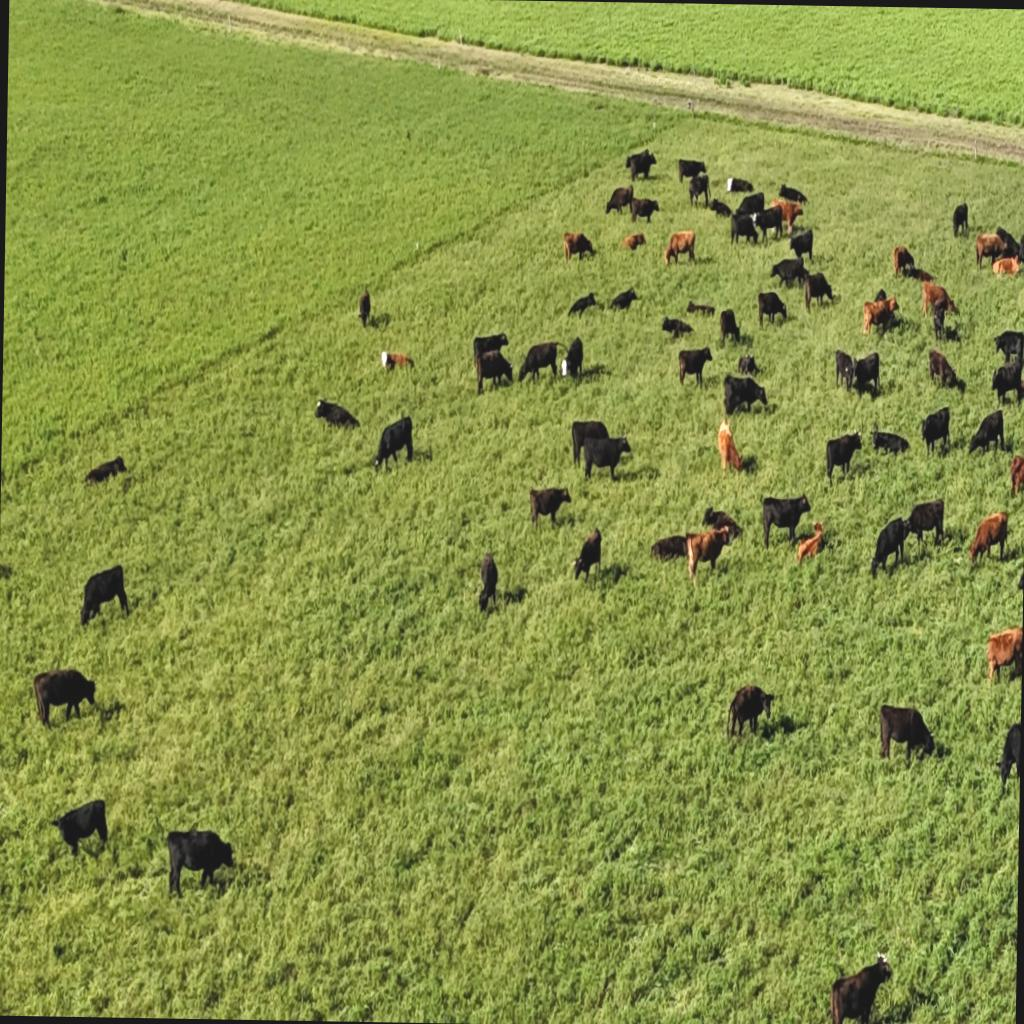cow: (166, 827, 236, 899), (829, 950, 892, 1024), (32, 666, 96, 728), (50, 798, 108, 858), (878, 704, 936, 763), (80, 562, 129, 626), (684, 524, 732, 586), (762, 492, 812, 548), (728, 684, 774, 740), (579, 434, 631, 482), (374, 414, 416, 472), (969, 510, 1009, 570), (870, 515, 908, 578), (984, 626, 1022, 688), (468, 321, 514, 367), (905, 498, 945, 550), (824, 431, 862, 483), (570, 418, 609, 468), (528, 485, 571, 530), (474, 352, 514, 400), (966, 408, 1006, 456), (723, 374, 768, 416), (519, 340, 559, 386), (572, 526, 602, 586), (862, 292, 899, 338), (996, 720, 1020, 790), (920, 280, 958, 323), (716, 416, 744, 474), (918, 406, 950, 456), (676, 345, 712, 388), (990, 361, 1024, 406), (928, 350, 964, 392), (314, 398, 360, 430), (851, 351, 880, 401), (768, 199, 804, 238), (702, 508, 742, 543), (796, 520, 826, 566), (83, 456, 128, 486), (478, 551, 499, 613), (752, 205, 784, 245), (974, 232, 1006, 272), (664, 228, 696, 268), (771, 257, 807, 292), (803, 272, 834, 312), (992, 328, 1024, 366), (757, 292, 788, 330), (729, 210, 759, 248), (870, 430, 910, 458), (650, 534, 689, 562), (560, 336, 584, 381), (562, 230, 594, 262), (626, 148, 656, 182), (994, 227, 1022, 261), (605, 184, 634, 216), (718, 308, 742, 346), (787, 228, 813, 262), (677, 157, 707, 185), (834, 350, 855, 390), (687, 172, 710, 208), (629, 197, 659, 224), (566, 292, 598, 316), (608, 286, 640, 310), (892, 245, 916, 277), (380, 348, 412, 372), (736, 192, 765, 218), (662, 316, 694, 339), (1008, 454, 1024, 498), (931, 300, 947, 342), (779, 184, 808, 206), (992, 254, 1020, 276), (952, 202, 968, 238), (358, 287, 371, 328), (726, 176, 753, 194), (702, 505, 724, 527), (737, 353, 758, 376), (709, 198, 733, 218), (686, 300, 716, 316), (622, 232, 646, 251), (738, 452, 758, 474), (907, 267, 934, 283), (1011, 379, 1024, 407), (950, 374, 967, 395), (883, 294, 899, 314), (788, 201, 803, 222), (1017, 230, 1024, 267), (873, 288, 887, 303)
